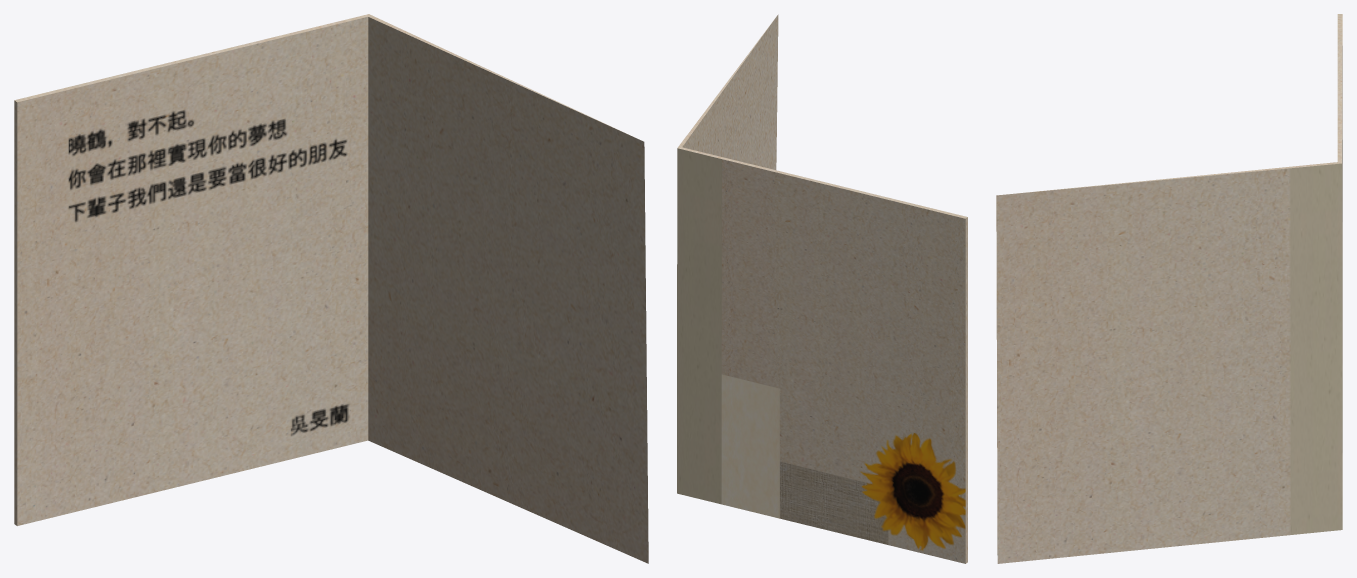
3 renders of one model, left to right at view 1: azimuth 30°, elevation 25°; view 2: azimuth 150°, elevation 25°; view 3: azimuth 270°, elevation 25°, orthographic. The views are drawn at different scales.
Visible parts, largest first — view 1: Box002; view 2: Box002; view 3: Box002.
Boxes of the visible parts, x1=… form: Box002: x1=14, y1=14, x2=648, y2=563; Box002: x1=677, y1=14, x2=967, y2=563; Box002: x1=996, y1=14, x2=1342, y2=563.
Bounding box in the file's own units: 8.59 × 8 × 6.85.
Materials: 1 (1 with a texture image).
